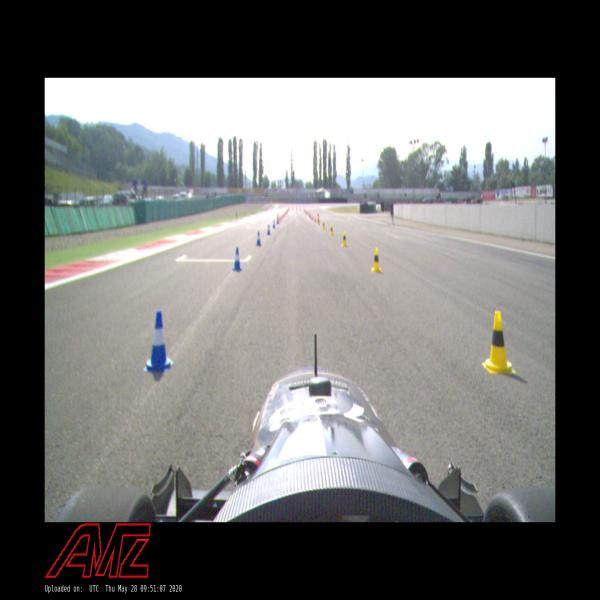blue_cone: (143, 310, 173, 371), (232, 247, 242, 272), (255, 231, 262, 246), (267, 224, 271, 235), (272, 220, 276, 229), (276, 217, 279, 225)
large_orange_cone: (276, 212, 279, 222), (317, 214, 320, 224), (288, 206, 290, 211), (296, 206, 298, 211), (299, 206, 301, 211), (303, 206, 305, 211), (292, 206, 294, 210)
orange_cone: (314, 216, 316, 222), (279, 216, 281, 221), (280, 214, 282, 219), (312, 215, 314, 220), (282, 213, 284, 217), (310, 214, 312, 218), (284, 212, 285, 216), (285, 211, 286, 215)
yellow_cone: (371, 247, 382, 273), (341, 231, 347, 247), (330, 224, 334, 236), (322, 220, 326, 230), (317, 218, 320, 226)
